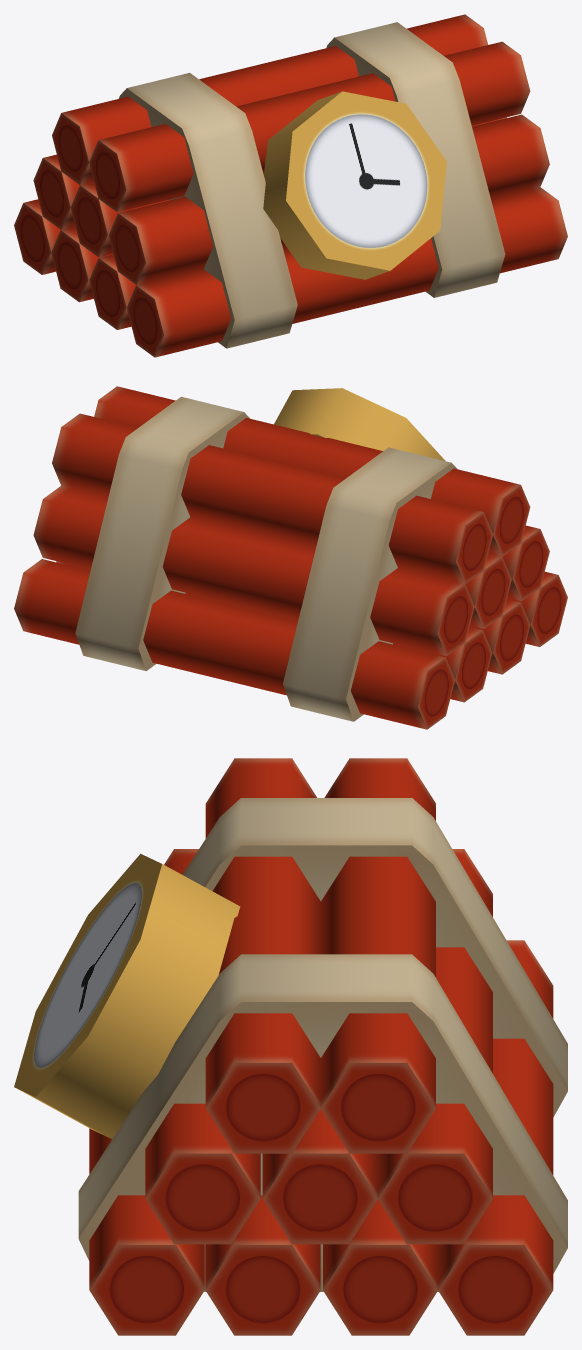
The model's file is SmallBomb.FBX.
3 views of the same model, one above another, from view 1: azimuth 30°, elevation 25°; view 2: azimuth 150°, elevation 25°; view 3: azimuth 270°, elevation 25° (orthographic). The views are drawn at different scales.
Parts seen in each view (by area): view 1: smallBomb; view 2: smallBomb; view 3: smallBomb.
Part boxes in pixels (left/top/right/bottom): smallBomb: left=14, top=14, right=567, bottom=357; smallBomb: left=14, top=386, right=567, bottom=729; smallBomb: left=14, top=758, right=567, bottom=1335.
Bounding box in the file's own units: 29.53 × 14.71 × 22.69.
